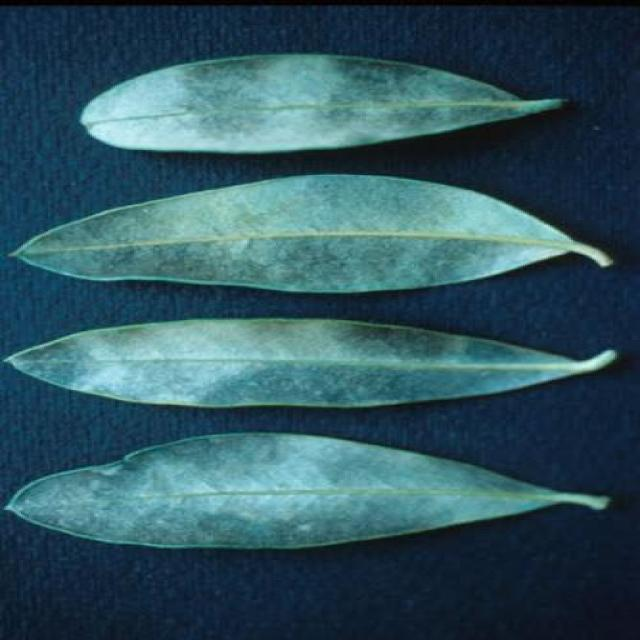OlivePeacockSpot: (8, 433, 584, 548), (21, 175, 581, 293), (8, 318, 615, 406), (81, 54, 564, 152)
